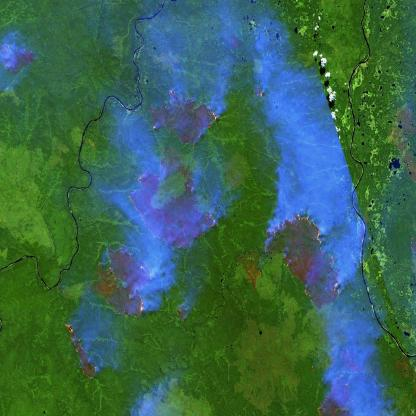fire: (129, 154, 221, 253), (264, 212, 349, 316), (151, 86, 226, 146), (119, 258, 158, 321), (64, 318, 99, 386), (0, 36, 36, 80), (251, 81, 266, 104)
